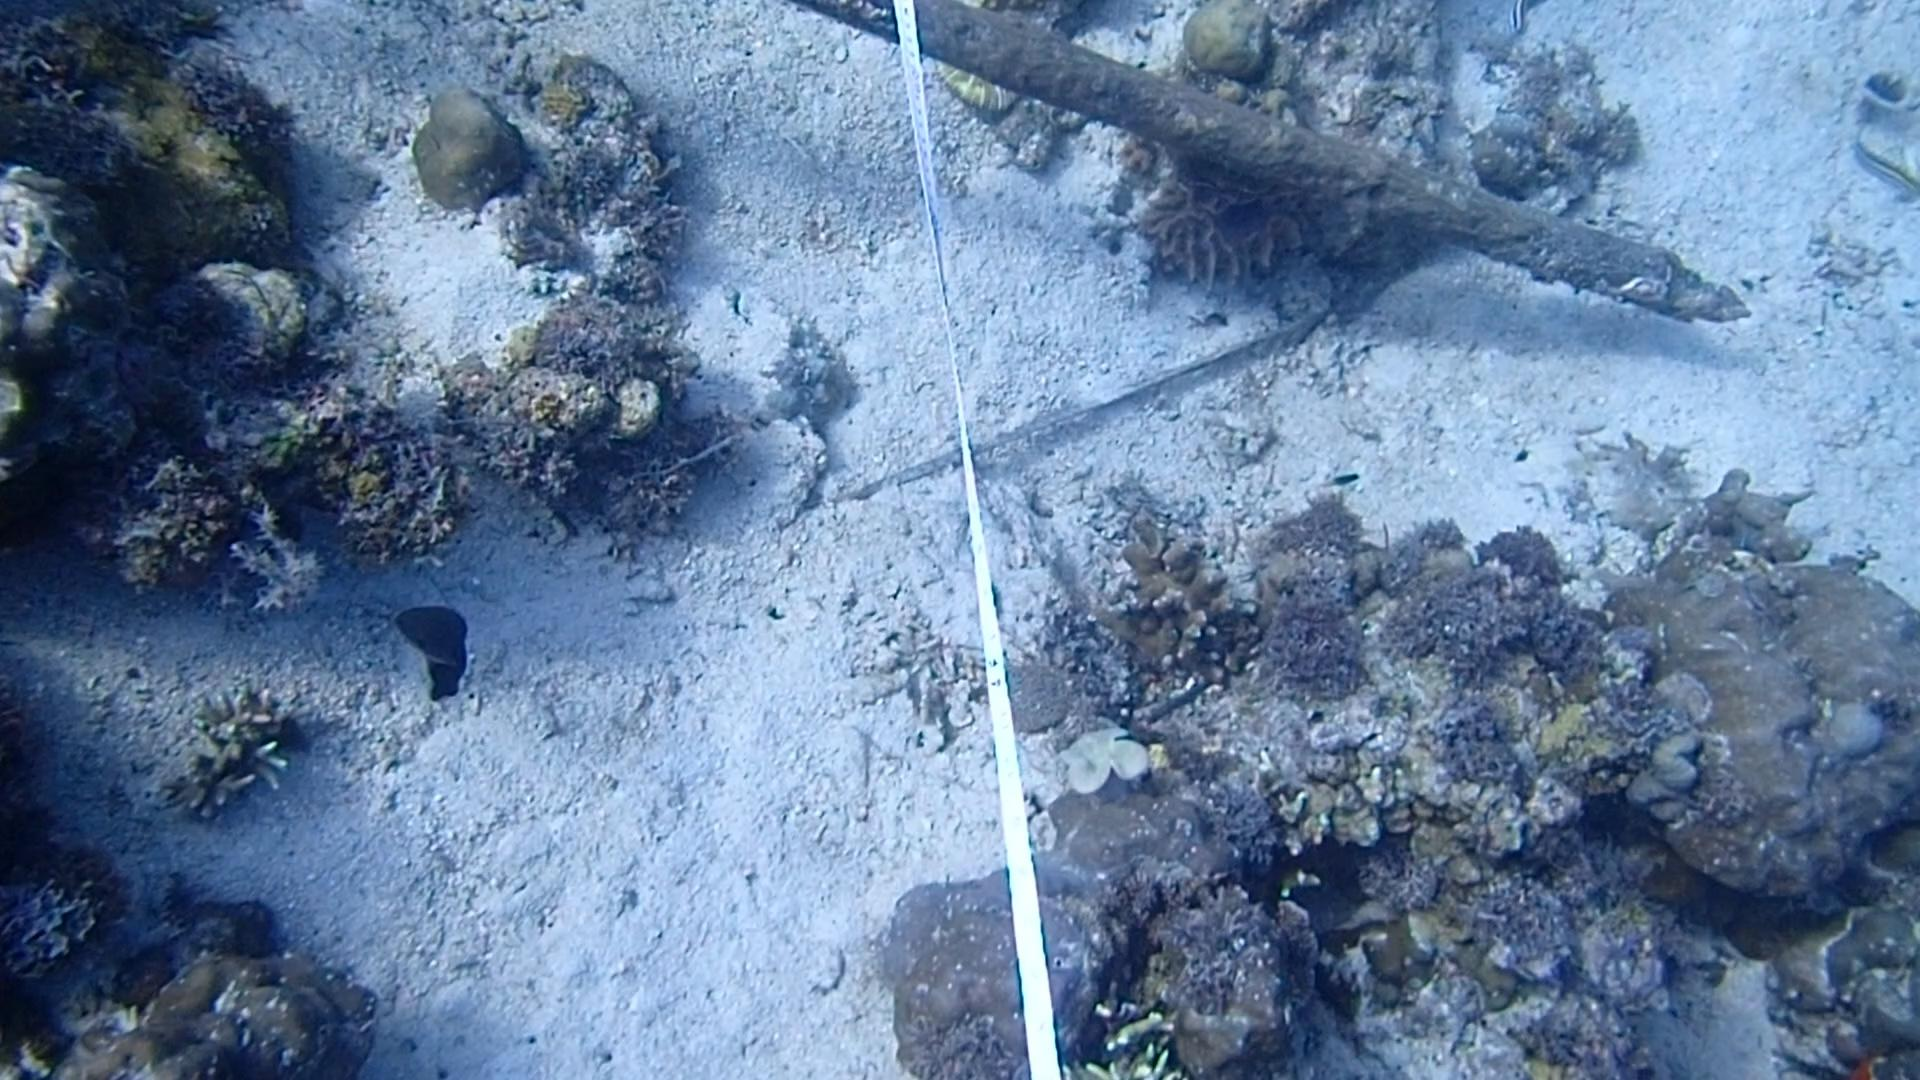Dark Fish: (381, 591, 491, 711)
Striped Fish: (1841, 132, 1920, 208)
